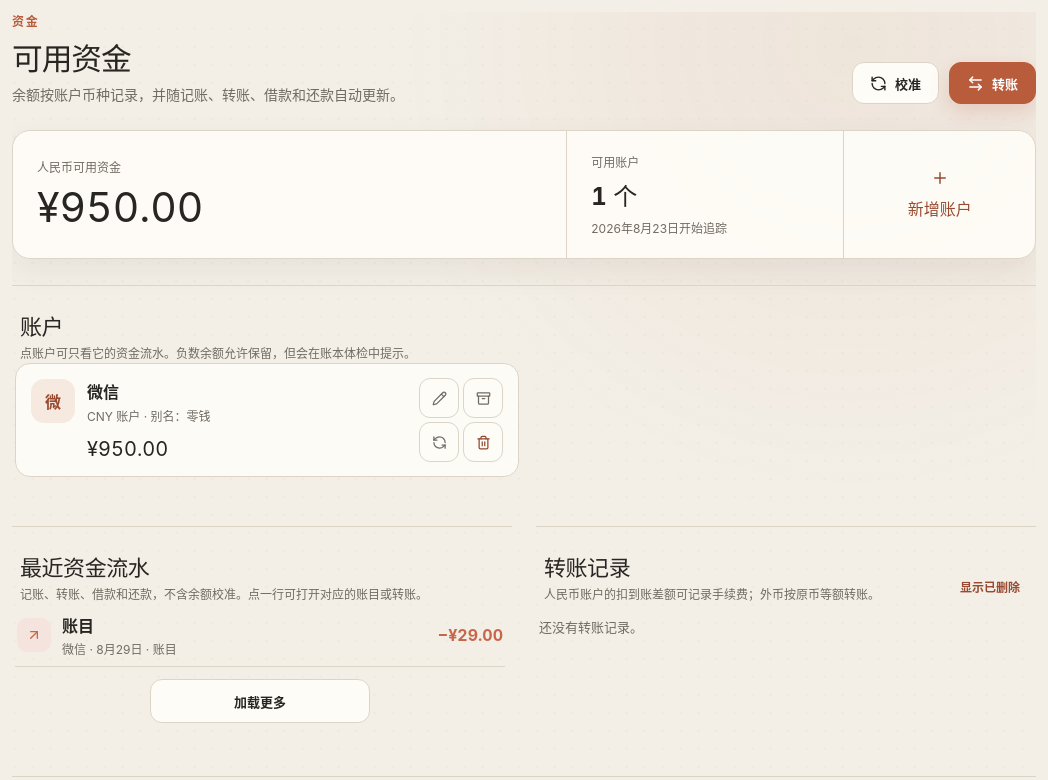
Test: 资金页面 › 最近资金流水按发生日倒序并提供加载更多
The width and height of the screenshot is (1048, 780).
Check: the text "人民币可用资金" is shown, box [37,160,121,174]
Check: the text "微信 · 8月29日 · 账目" is shown, box [62,642,177,657]
Click the button "加载更多" at (260, 701), box [150,679,370,723]
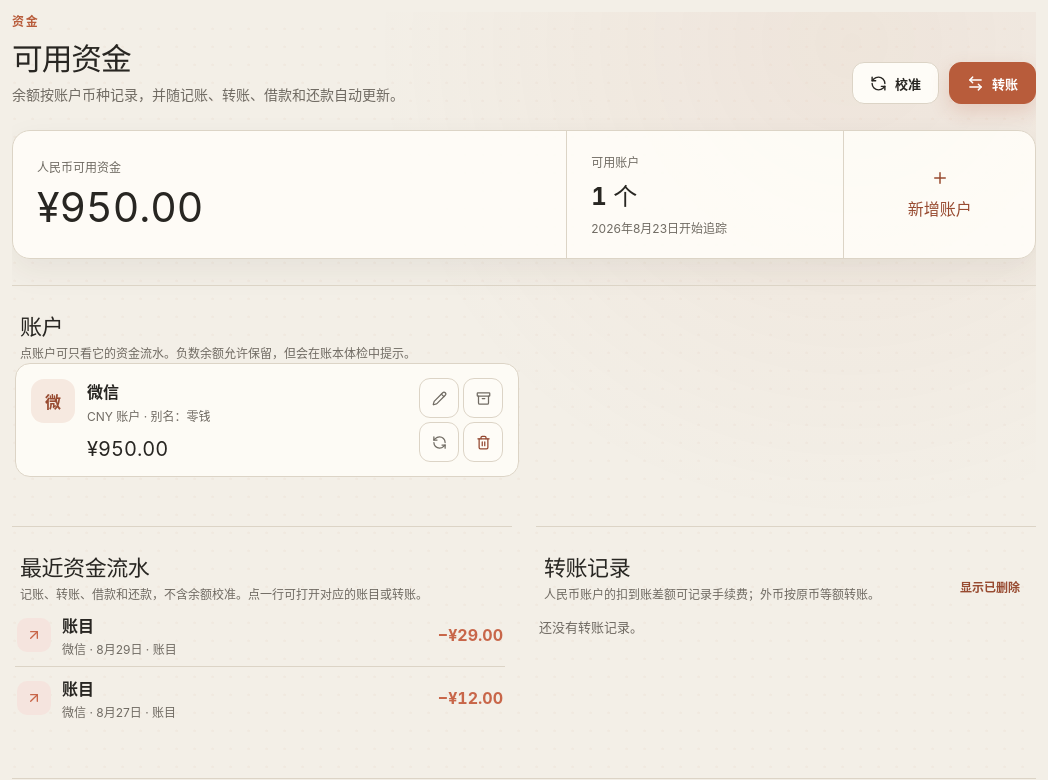
Check: the text "微信 · 8月27日 · 账目" is shown, box [62,705,176,720]
